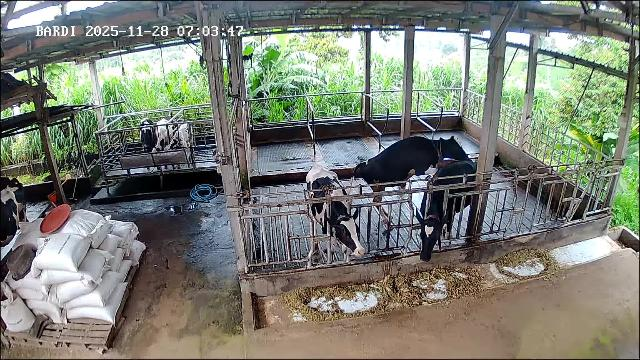mounting: (362, 134, 469, 229)
